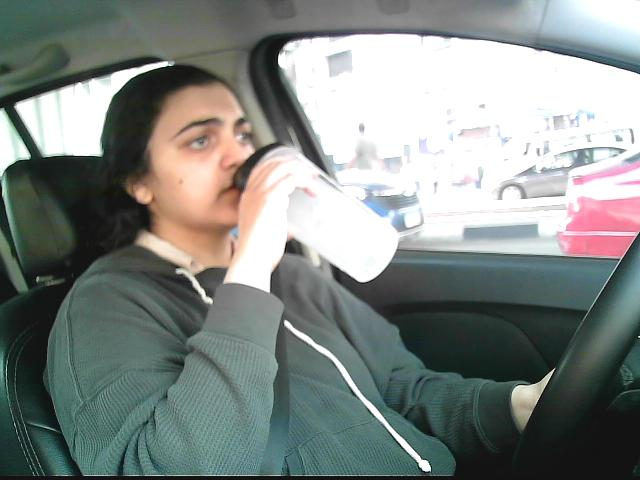Drinking: (238, 142, 402, 284)
